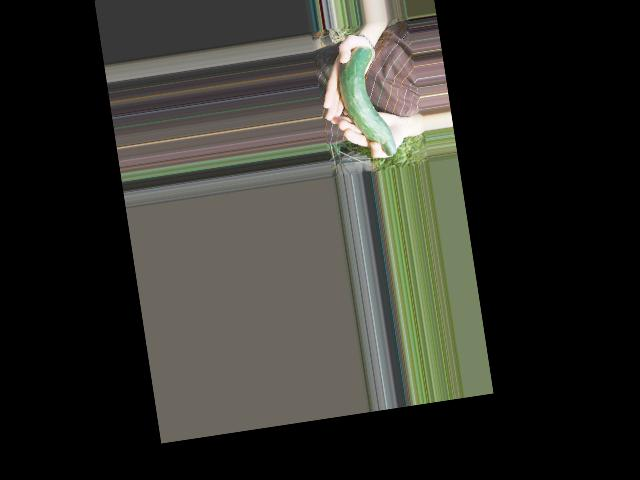cucumber: (333, 42, 397, 161)
